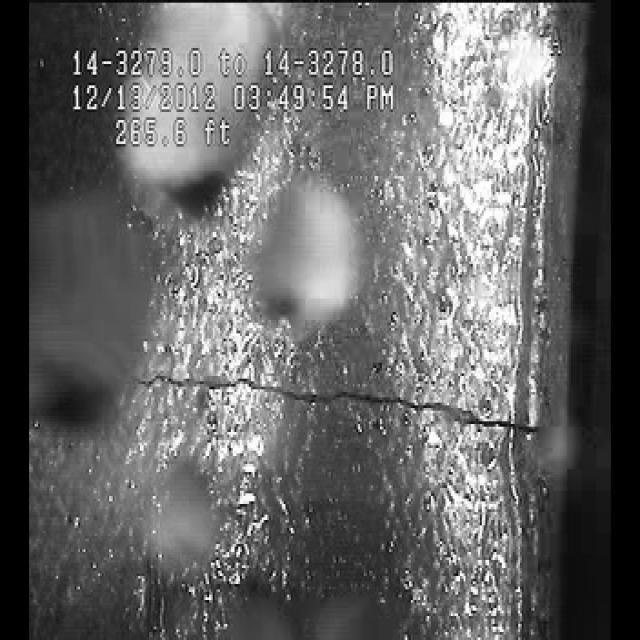Crack: (122, 297, 520, 480)
